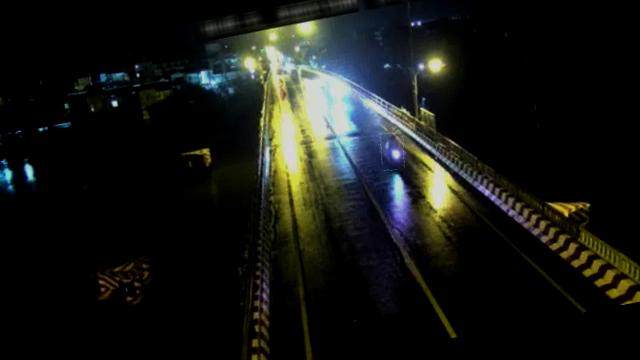Bike: (376, 130, 407, 172)
